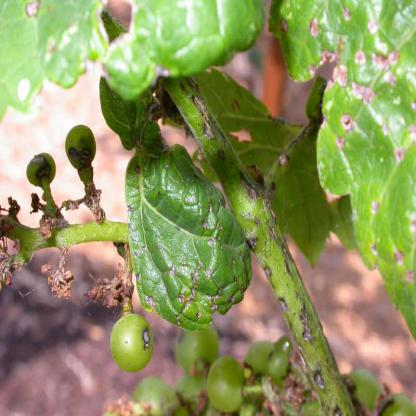grape leaf black rot: (267, 1, 415, 347), (100, 135, 260, 338)
